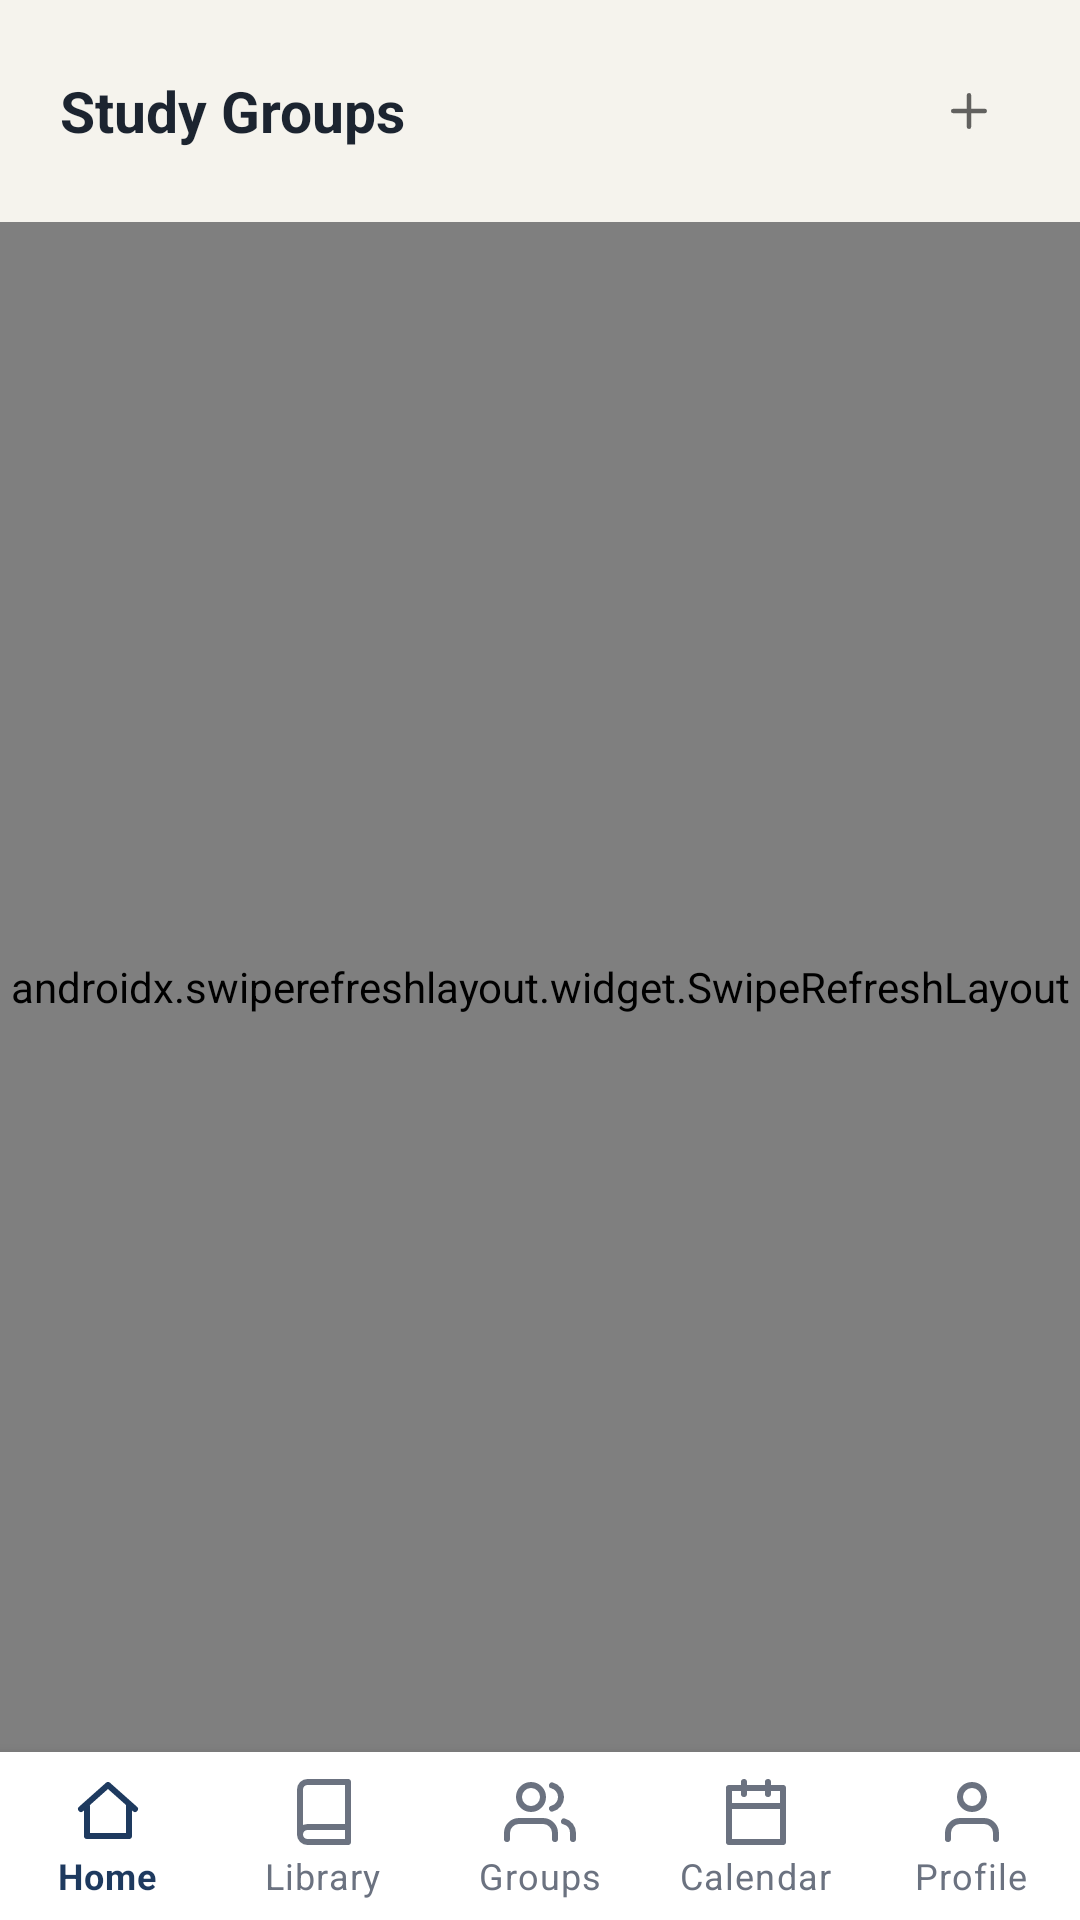

Icons on this 1080 x 1920 Android screen, each with its box as region(x1, y1, x2, y2):
add: region(951, 93, 987, 129)
